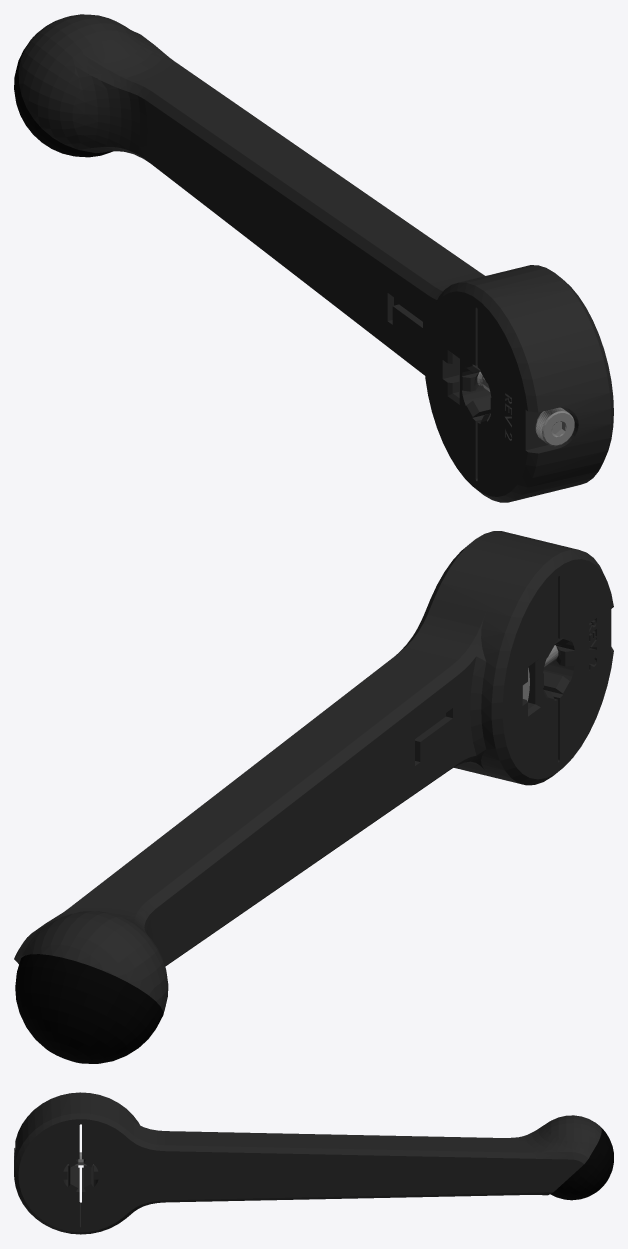
File: Lower_Leg_L.obj
3 views of the same model, one above another, from view 1: azimuth 30°, elevation 25°; view 2: azimuth 150°, elevation 25°; view 3: azimuth 270°, elevation 25° (orthographic). The views are drawn at different scales.
Parts seen in each view (by area): view 1: Lower_Leg_L; view 2: Lower_Leg_L; view 3: Lower_Leg_L.
Part boxes in pixels (x1,y1,x2,y2): Lower_Leg_L: [14, 14, 613, 502]; Lower_Leg_L: [14, 531, 613, 1063]; Lower_Leg_L: [14, 1092, 613, 1234].
Bounding box in the file's own units: 0.019 × 0.03 × 0.1345.
1 material, 1 textured.
